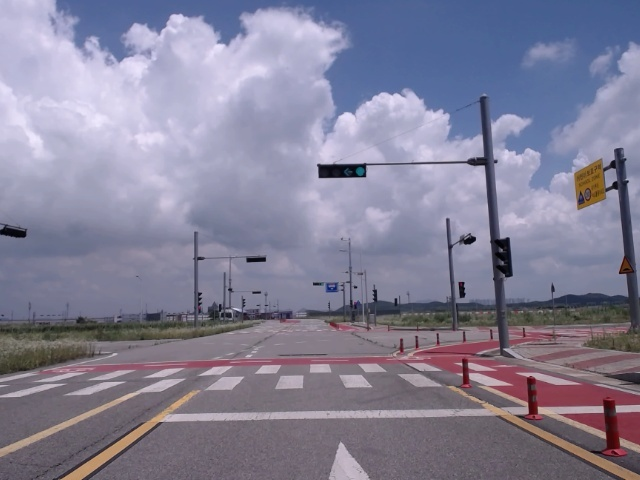all_green_4: (314, 165, 369, 179)
